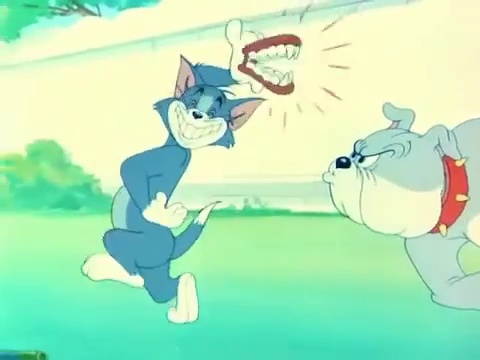spike: (318, 102, 472, 243)
tom: (151, 53, 268, 158)
